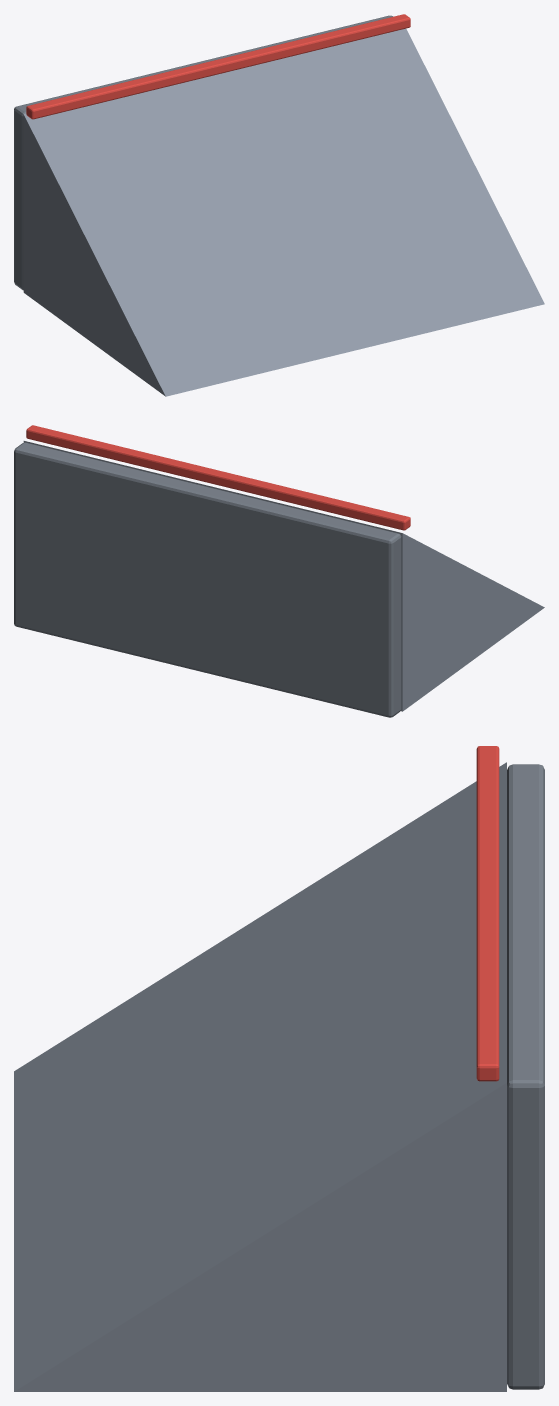
The model's file is Skate_QuarterPipe.fbx.
3 views of the same model, one above another, from view 1: azimuth 30°, elevation 25°; view 2: azimuth 150°, elevation 25°; view 3: azimuth 270°, elevation 25° (orthographic). The views are drawn at different scales.
Parts seen in each view (by area): view 1: QuarterPipe; view 2: QuarterPipe; view 3: QuarterPipe.
Part boxes in pixels (<box>): QuarterPipe: <box>14,14,544,396</box>; QuarterPipe: <box>14,425,544,717</box>; QuarterPipe: <box>14,746,544,1391</box>.
Size of the model in its own units: 4 by 1.9 by 2.8.
